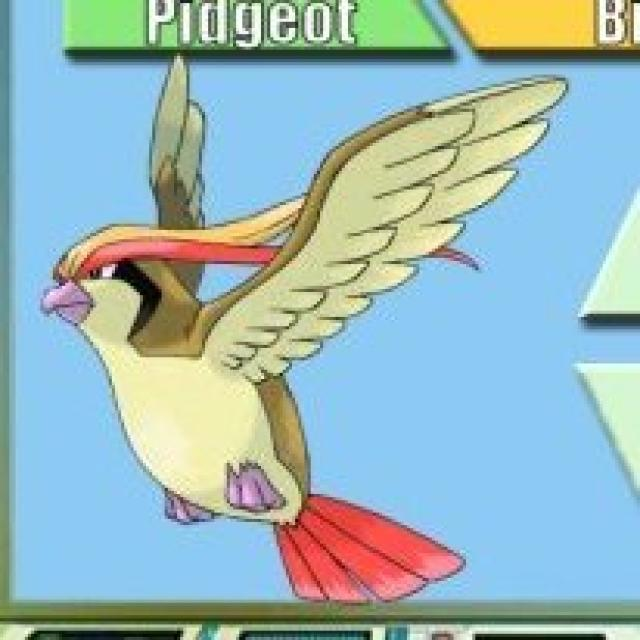Pidgeot: (46, 151, 416, 559)
